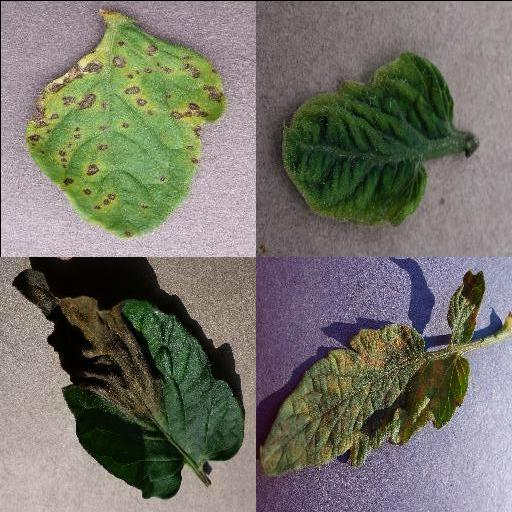Late Blight: (10, 264, 244, 498)
Leaf Mold: (258, 322, 470, 475)
Septoria: (24, 9, 226, 239)
Yellow Leaf Curl Virus: (279, 50, 455, 226)
